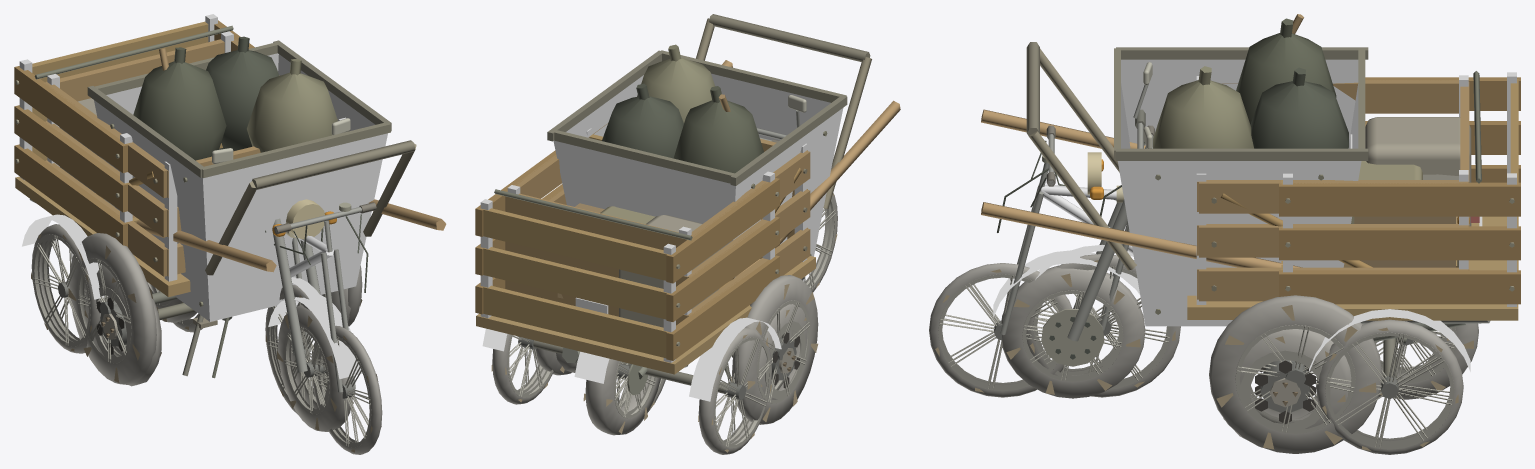
The model's file is vehicles_street.glb.
3 renders of one model, left to right at view 1: azimuth 30°, elevation 25°; view 2: azimuth 150°, elevation 25°; view 3: azimuth 270°, elevation 25°, orthographic. The views are drawn at different scales.
Visible parts, largest first — view 1: vehicle_rubbish_cart-2, vehicle_rubbish_cart-4, vehicle_tricycle-5, vehicle_handcart-1, vehicle_rubbish_cart-0, vehicle_handcart-wheel_left-0, vehicle_motorbike-wheel_front-0, vehicle_tricycle-wheel_rl-1, vehicle_tricycle-0, vehicle_tricycle-1, vehicle_rubbish_cart-3, vehicle_motorbike-1 (+16 smaller); view 2: vehicle_tricycle-5, vehicle_rubbish_cart-2, vehicle_handcart-1, vehicle_rubbish_cart-4, vehicle_rubbish_cart-0, vehicle_handcart-wheel_left-0, vehicle_tricycle-0, vehicle_motorbike-wheel_rear-0, vehicle_tricycle-wheel_rl-1, vehicle_rubbish_cart-3, vehicle_tricycle-wheel_rl-0, vehicle_tricycle-4 (+13 smaller); view 3: vehicle_tricycle-5, vehicle_handcart-1, vehicle_rubbish_cart-2, vehicle_rubbish_cart-4, vehicle_handcart-wheel_right-0, vehicle_rubbish_cart-0, vehicle_motorbike-wheel_front-0, vehicle_tricycle-6, vehicle_tricycle-wheel_rr-1, vehicle_motorbike-1, vehicle_tricycle-wheel_rr-0, vehicle_tricycle-0 (+18 smaller).
Part boxes in pixels (box(x1,y1,x2,y2)): vehicle_rubbish_cart-2: box(94, 53, 387, 321); vehicle_rubbish_cart-4: box(133, 36, 337, 160); vehicle_tricycle-5: box(14, 20, 254, 246); vehicle_handcart-1: box(44, 37, 446, 297); vehicle_rubbish_cart-0: box(87, 40, 416, 319); vehicle_handcart-wheel_left-0: box(68, 233, 156, 384); vehicle_motorbike-wheel_front-0: box(277, 305, 353, 431); vehicle_tricycle-wheel_rl-1: box(32, 234, 90, 346); vehicle_tricycle-0: box(19, 14, 333, 299); vehicle_tricycle-1: box(15, 80, 361, 392); vehicle_rubbish_cart-3: box(252, 140, 414, 189); vehicle_motorbike-1: box(272, 218, 327, 388); vehicle_tricycle-5: box(475, 134, 779, 374); vehicle_rubbish_cart-2: box(553, 73, 843, 277); vehicle_handcart-1: box(505, 60, 900, 325); vehicle_rubbish_cart-4: box(602, 44, 763, 173); vehicle_rubbish_cart-0: box(547, 18, 871, 209); vehicle_handcart-wheel_left-0: box(731, 275, 818, 424); vehicle_tricycle-0: box(480, 128, 781, 401); vehicle_motorbike-wheel_rear-0: box(583, 358, 660, 435); vehicle_tricycle-wheel_rl-1: box(713, 337, 770, 448); vehicle_rubbish_cart-3: box(709, 14, 870, 61); vehicle_tricycle-wheel_rl-0: box(698, 327, 771, 454); vehicle_tricycle-4: box(494, 189, 726, 393); vehicle_tricycle-5: box(1279, 77, 1520, 320); vehicle_handcart-1: box(981, 80, 1469, 319); vehicle_rubbish_cart-2: box(1117, 59, 1361, 326); vehicle_rubbish_cart-4: box(1153, 18, 1348, 148); vehicle_handcart-wheel_right-0: box(1209, 295, 1382, 453); vehicle_rubbish_cart-0: box(1029, 47, 1368, 270); vehicle_motorbike-wheel_front-0: box(1001, 265, 1145, 398); vehicle_tricycle-6: box(1365, 117, 1471, 226); vehicle_tricycle-wheel_rr-1: box(1325, 332, 1454, 449); vehicle_motorbike-1: box(1041, 84, 1465, 366); vehicle_tricycle-wheel_rr-0: box(1316, 319, 1463, 454); vehicle_tricycle-0: box(1040, 72, 1516, 371).
Size of what is drawn, in the model's own units: 1.17 by 1.54 by 2.33.
